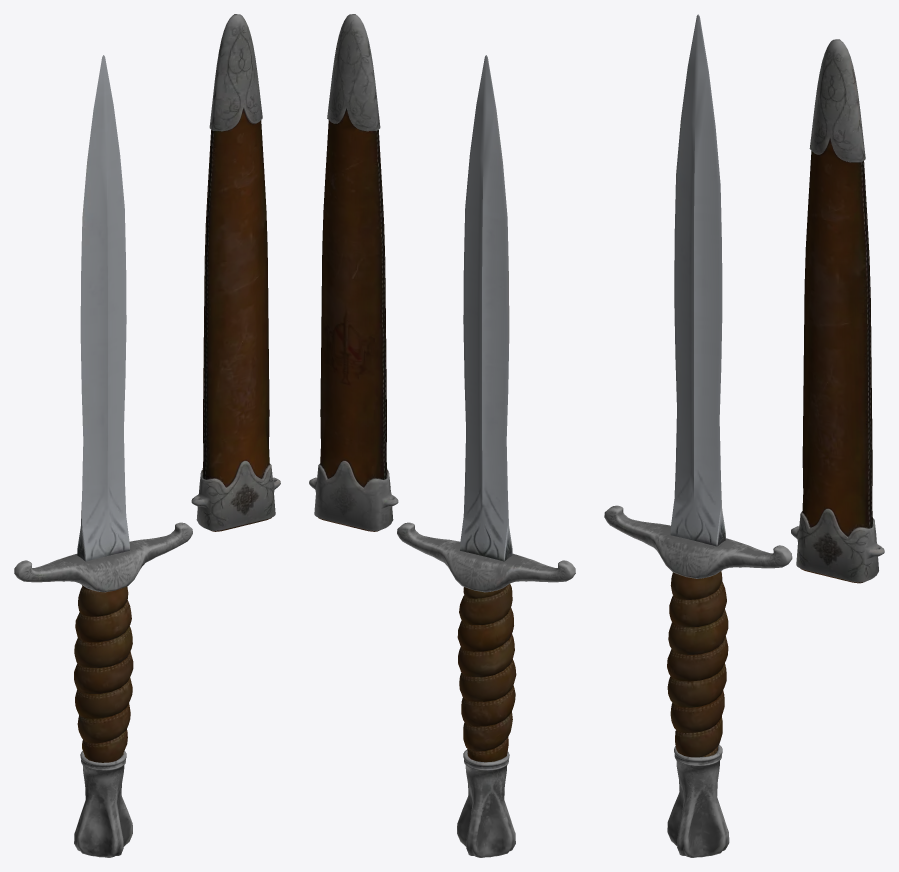
The model's file is ornate_medieval_dagger.glb.
3 renders of one model, left to right at view 1: azimuth 30°, elevation 25°; view 2: azimuth 150°, elevation 25°; view 3: azimuth 330°, elevation 25°, orthographic. The views are drawn at different scales.
Parts seen in each view (by area): view 1: ornate_medieval_dagger; view 2: ornate_medieval_dagger; view 3: ornate_medieval_dagger.
Part boxes in pixels (left/top/right/bottom): ornate_medieval_dagger: left=14, top=14, right=280, bottom=857; ornate_medieval_dagger: left=309, top=14, right=575, bottom=857; ornate_medieval_dagger: left=604, top=14, right=884, bottom=857.
Bounding box in the file's own units: 0.1201 × 0.3489 × 0.025.
Materials: 1 (1 with a texture image).
